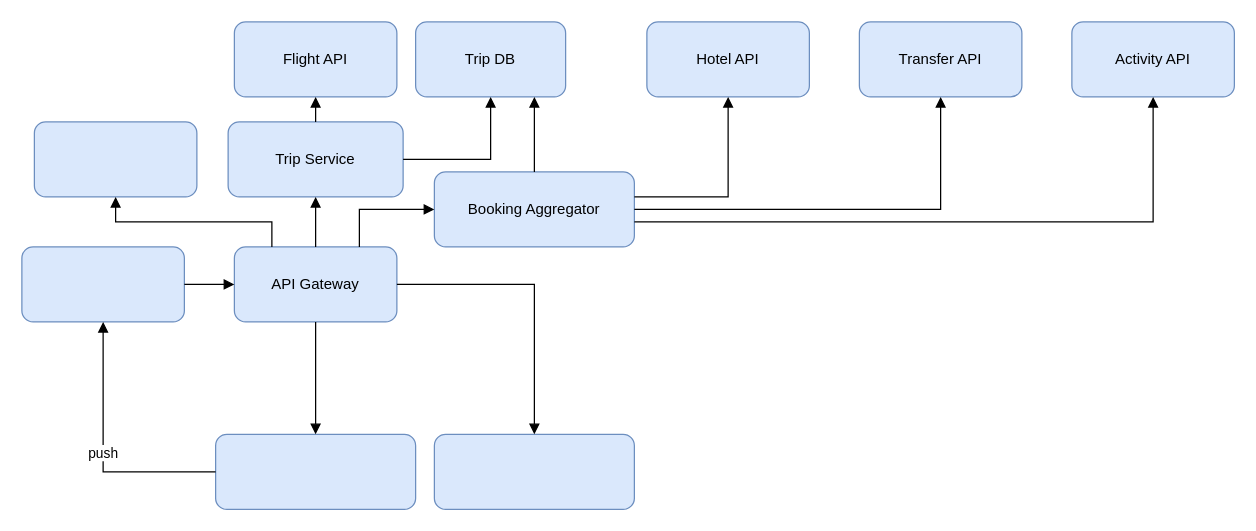
The diagram is 1256 pixels wide and 531 high, and some of its shapes have lost their labels. Here are the shapes that lost their labels. From the top down, the centre of each, then its label:
the point at 115,159: Sync Queue
the point at 102,284: Mobile App
the point at 315,471: Notification Service
the point at 533,471: Recommendation Engine
